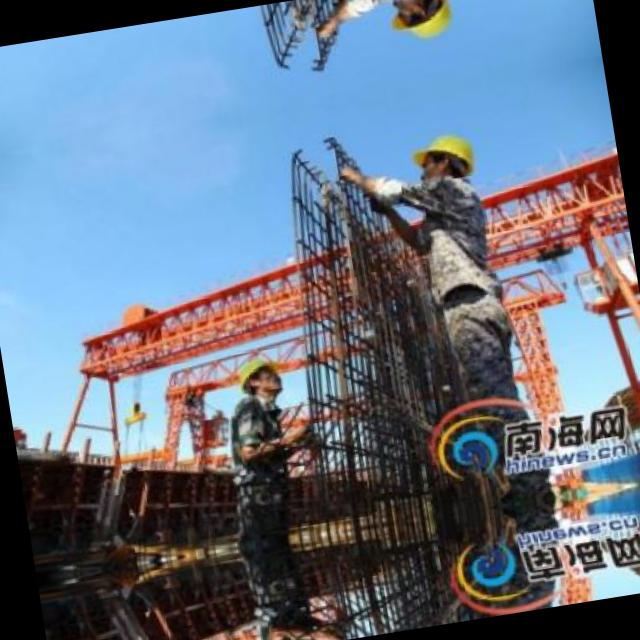helmet: (410, 124, 484, 188), (387, 0, 461, 46), (230, 348, 288, 404)
